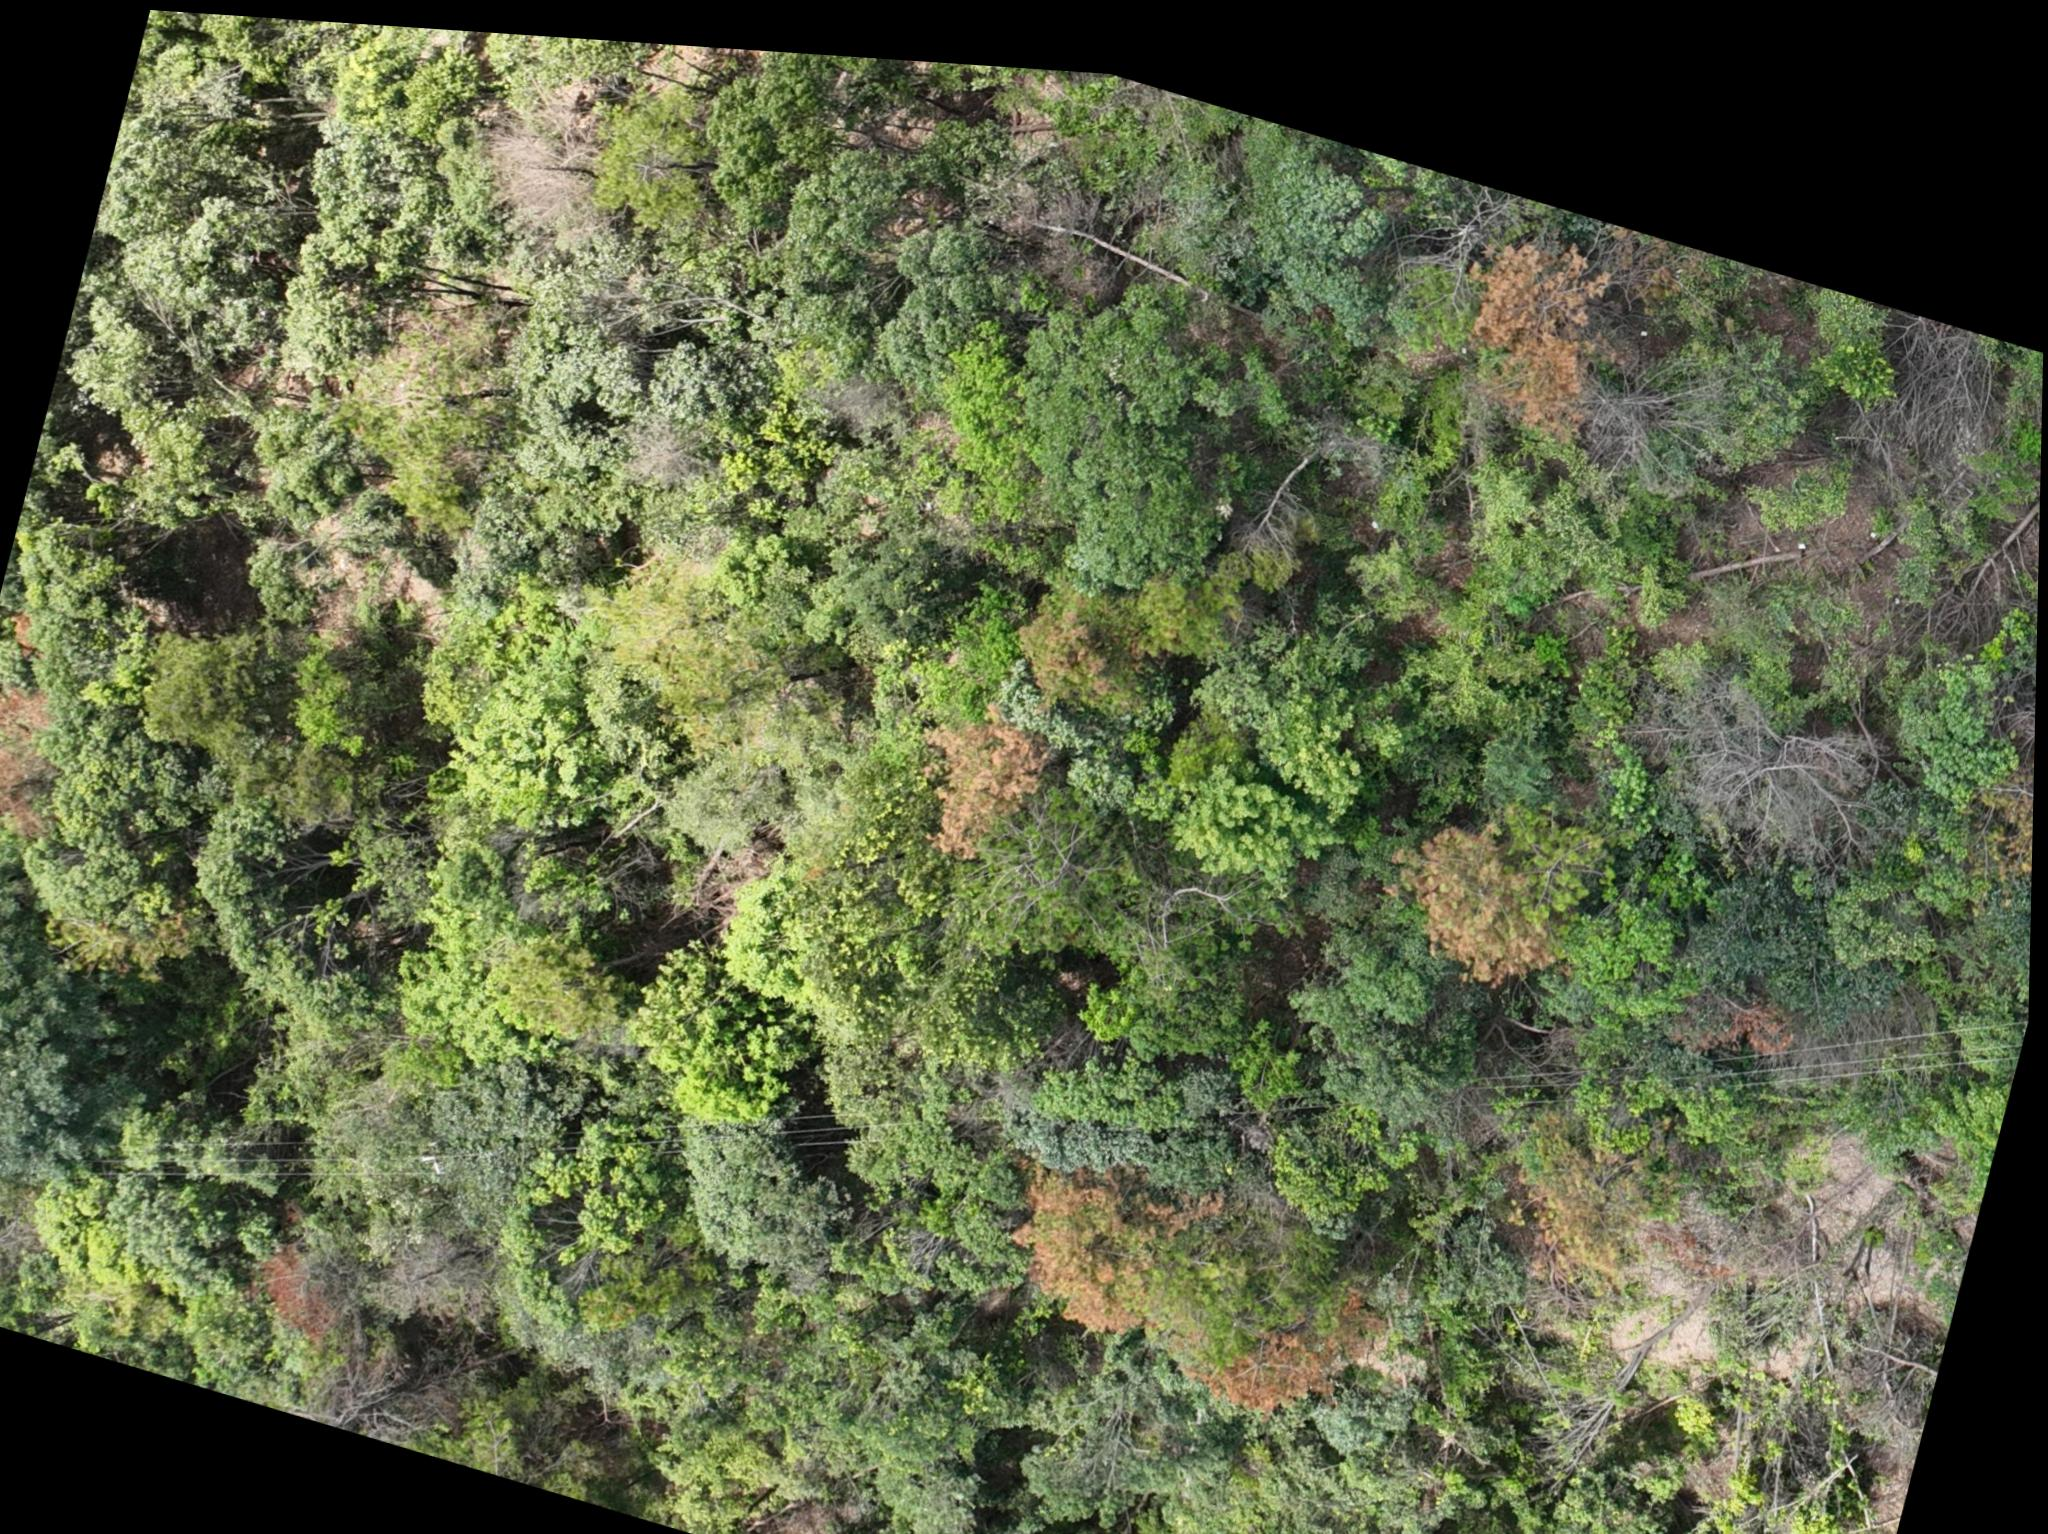dead: (1618, 651, 1905, 857), (1855, 282, 2022, 487), (1587, 348, 1702, 466)
heavy: (1431, 201, 1624, 424), (1004, 1149, 1178, 1328), (902, 685, 1046, 862)
light: (1152, 1183, 1395, 1410), (1366, 756, 1592, 983)
